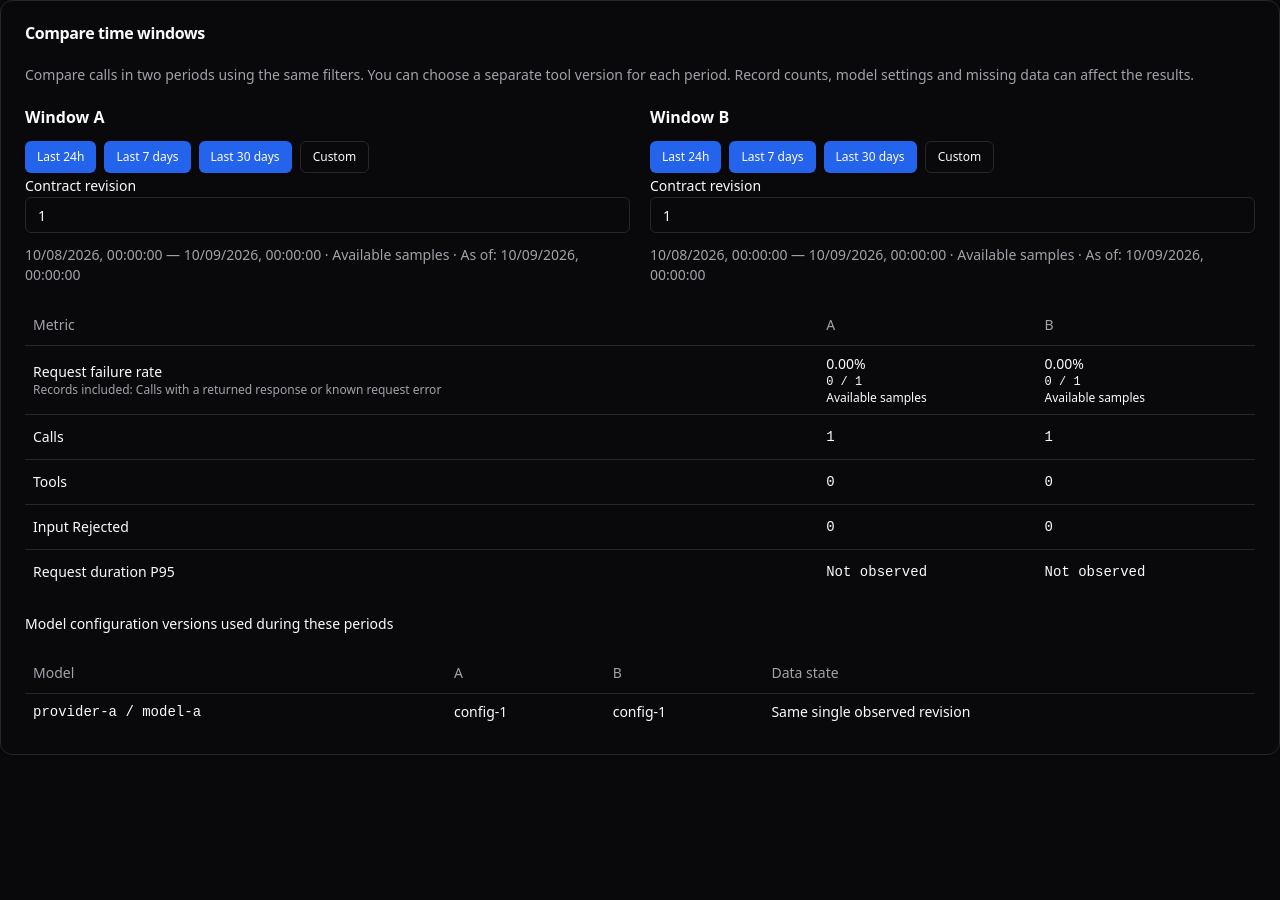
Test case: compares independently selected contracts within the same cohort and marks observed configuration differences
Expected: the text "Same single observed revision" is shown, [763, 694, 1255, 730]
Replace the text in the field named "B Contract revision" with "2" at x=952, y=215, box [650, 197, 1255, 233]
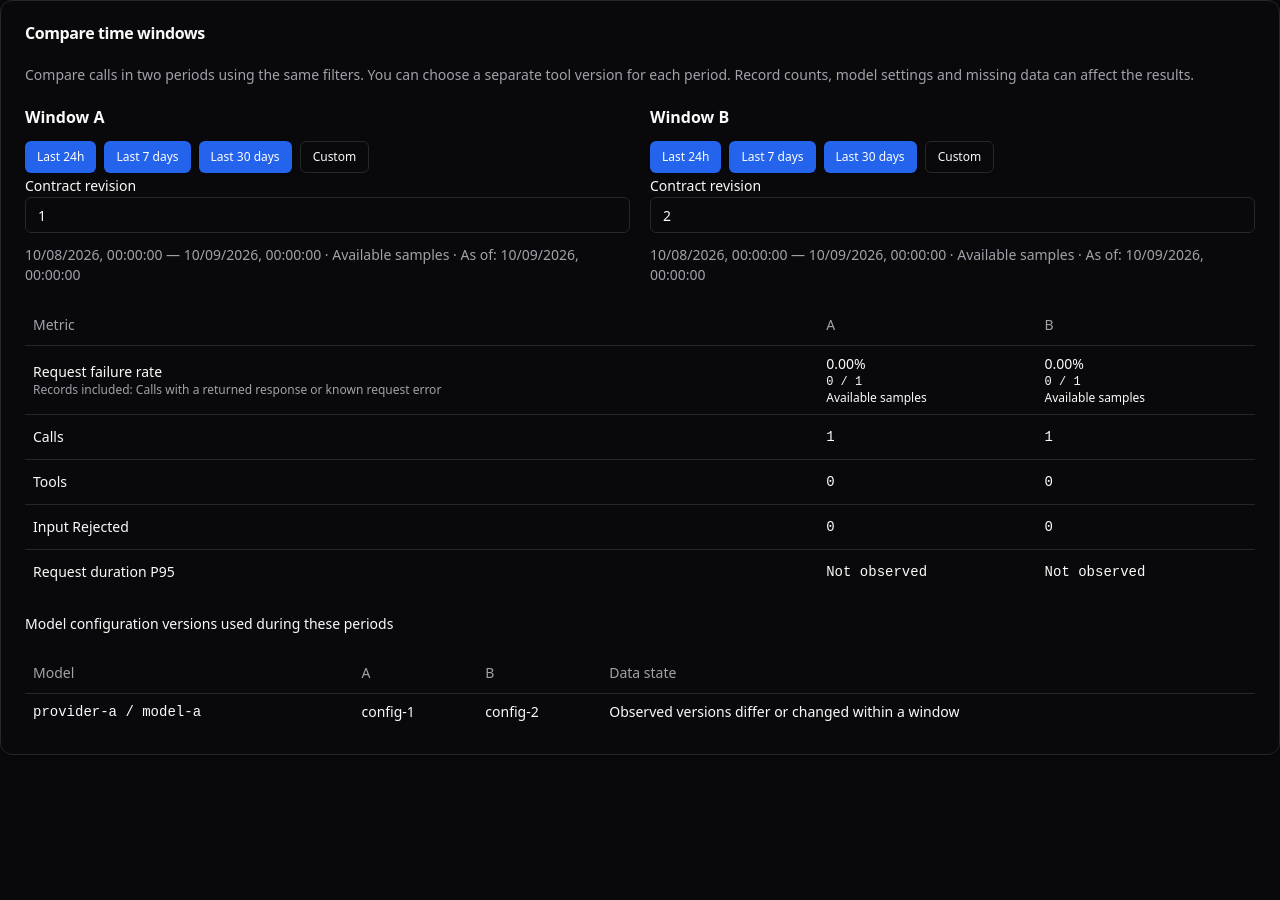
Expected: the text "config-1" is shown, [354, 694, 477, 730]
Result: the text "Observed versions differ or changed within a window" is shown at [601, 694, 1255, 730]
Result: the text "config-2" is shown at [477, 694, 601, 730]
